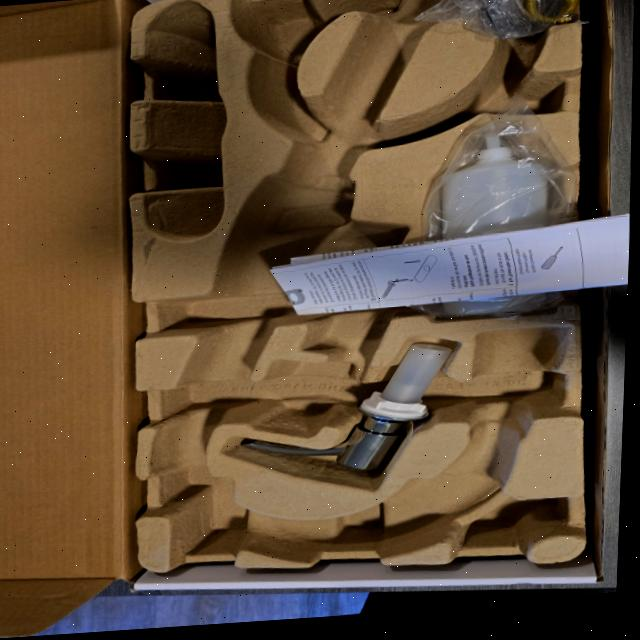1m: (155, 0, 563, 562)
2: (243, 343, 456, 471)
3o: (436, 123, 555, 318)
4m: (145, 0, 225, 242)
5m: (240, 6, 316, 56)
6: (409, 0, 588, 41)
7m: (418, 46, 569, 133)
8: (271, 212, 629, 316)
